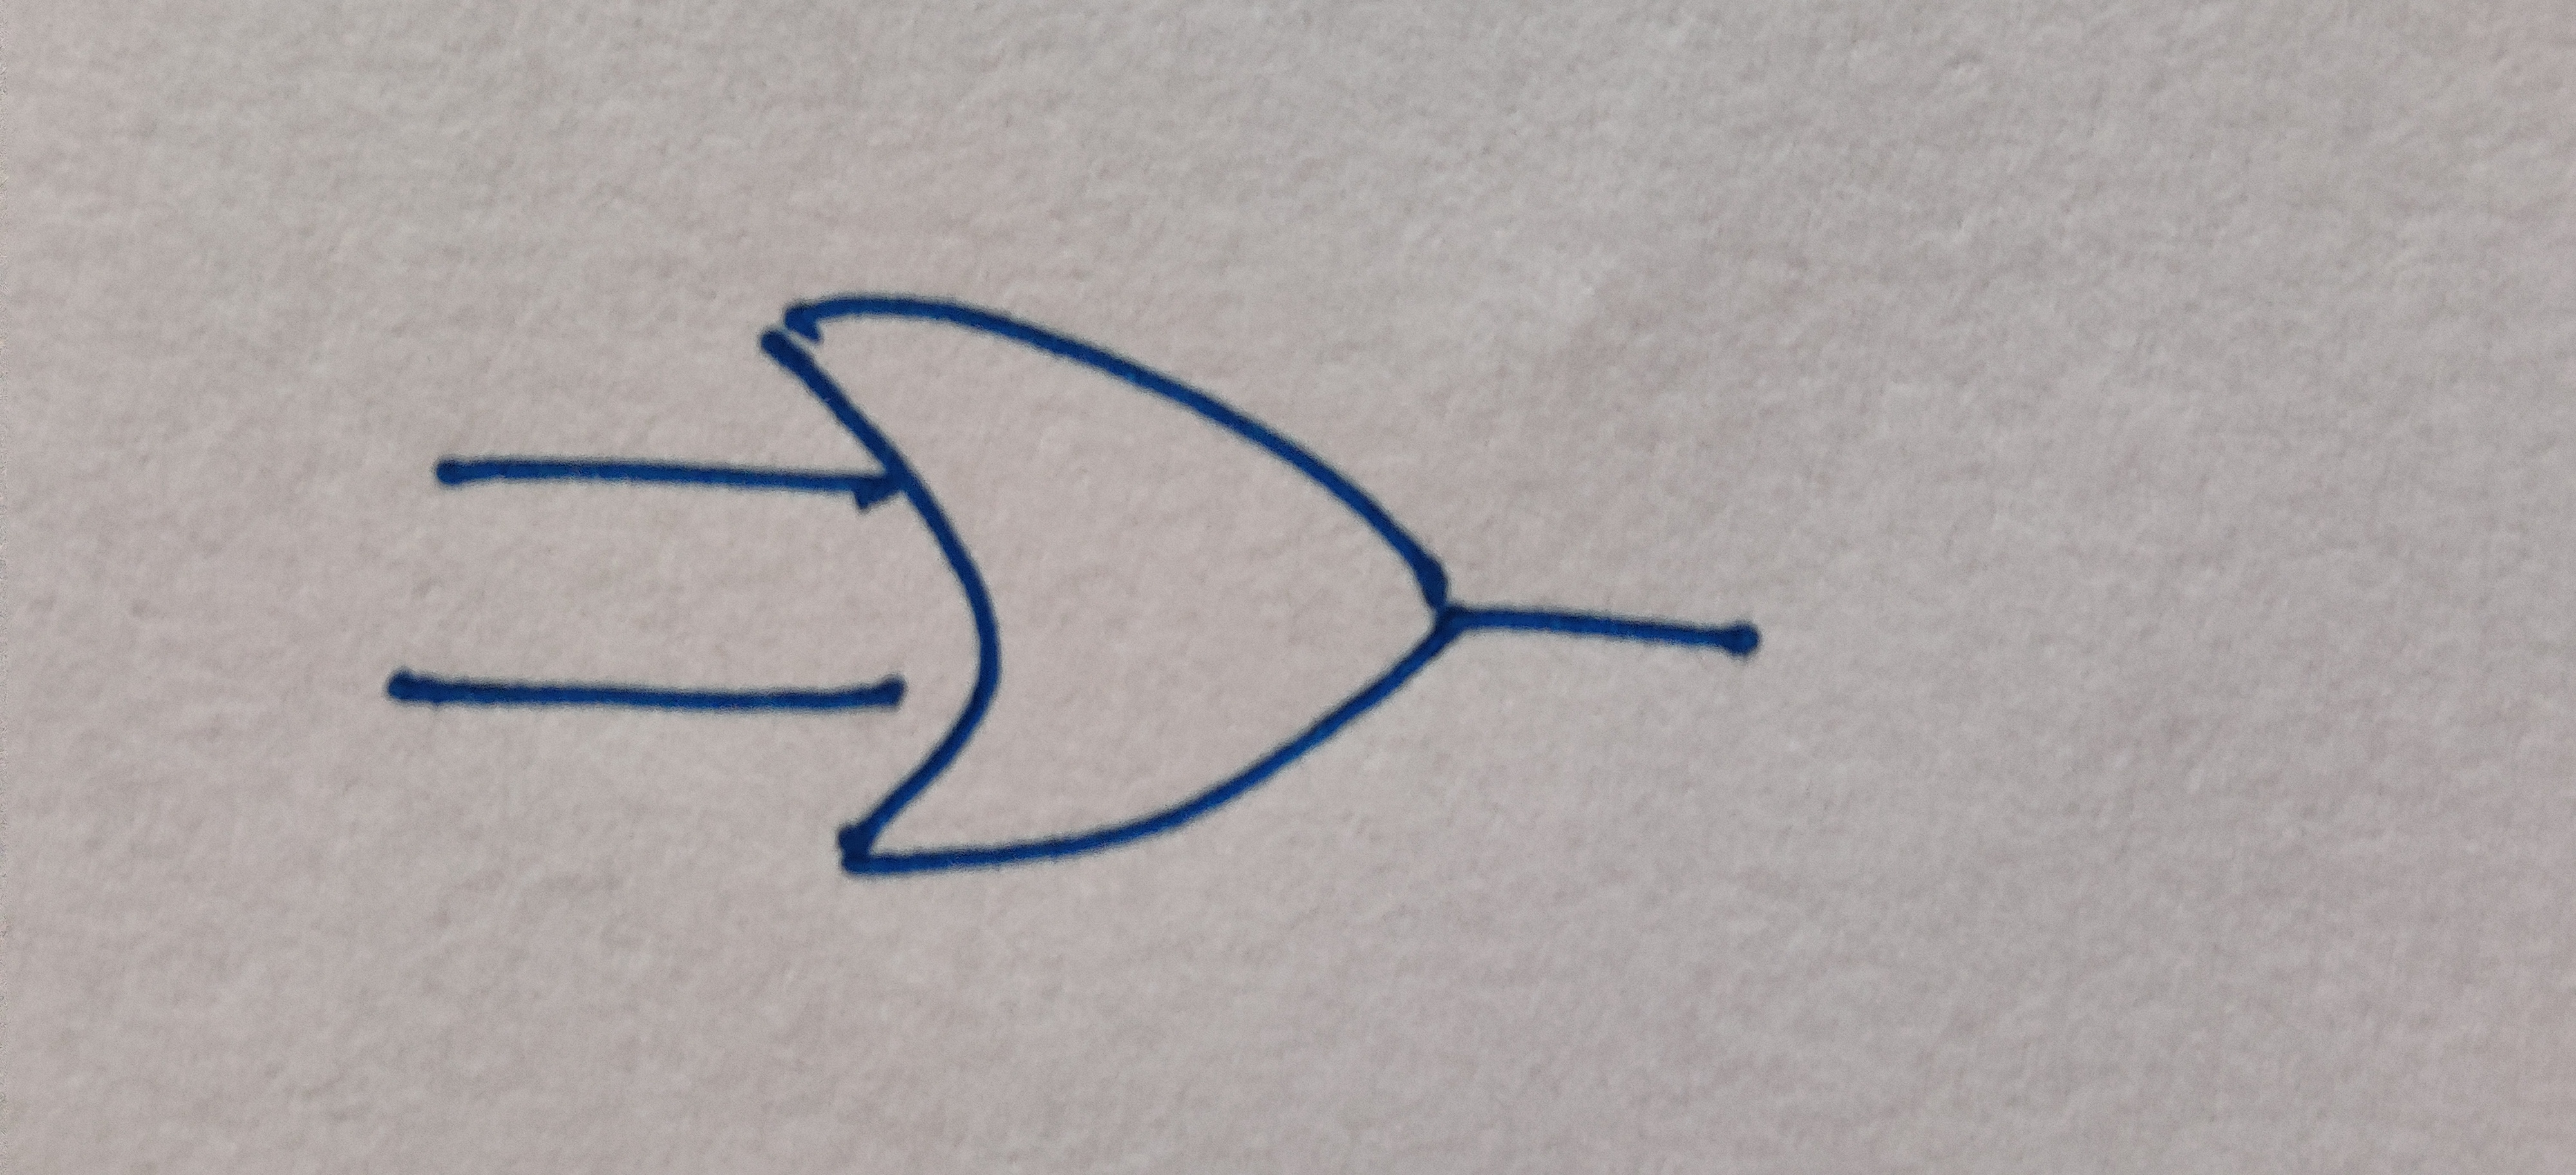or: (767, 296, 1460, 876)
